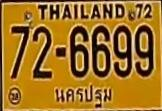2: (32, 26, 53, 78)
6: (69, 25, 88, 76), (91, 25, 109, 76)
7: (11, 25, 29, 77)
9: (134, 24, 153, 76), (113, 25, 131, 76)
NPT: (52, 83, 116, 110)
